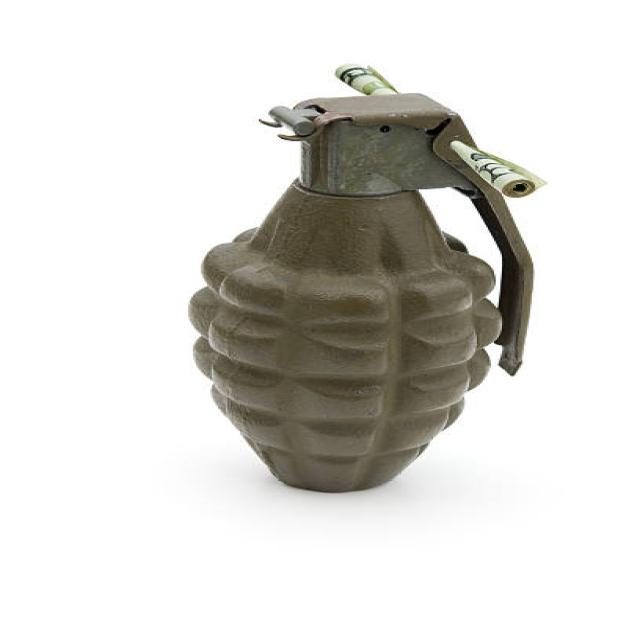grenade: (181, 84, 542, 500)
